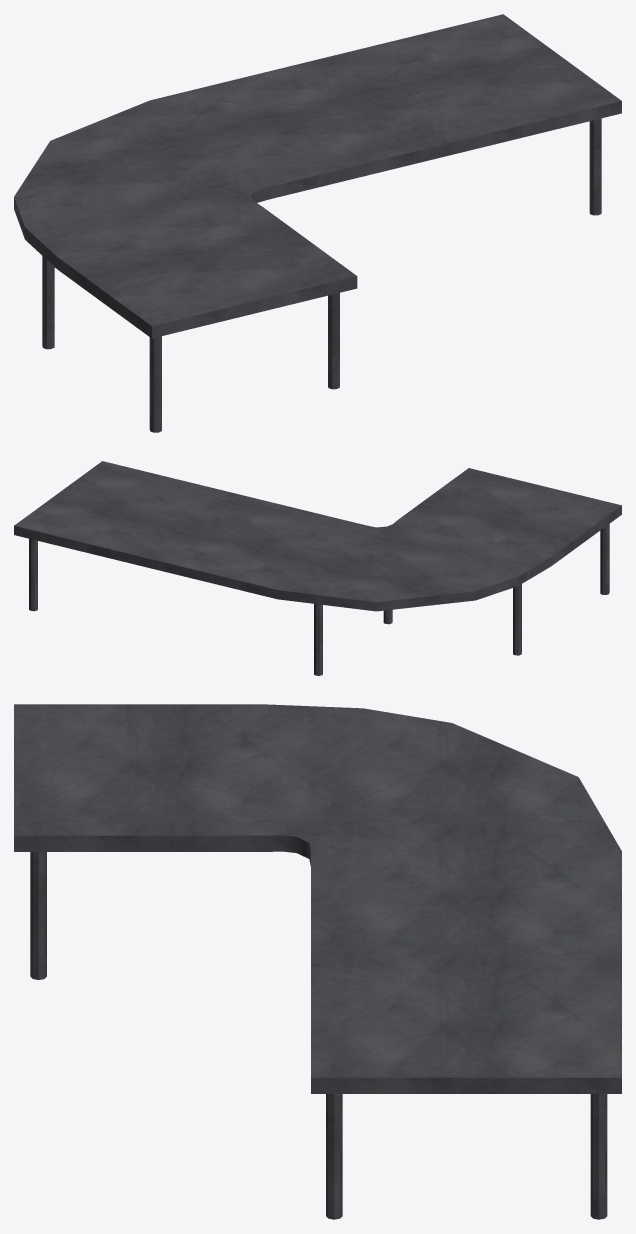
Rendered from furniture_work_table01.dae.
The picture shows the model from 3 angles, top to bottom: view 1: azimuth 30°, elevation 25°; view 2: azimuth 150°, elevation 25°; view 3: azimuth 270°, elevation 25°; orthographic projection. The views are drawn at different scales.
Visible parts, largest first — view 1: worktable; view 2: worktable; view 3: worktable.
Boxes of the visible parts, left/top/right/bottom form: worktable: left=14, top=14, right=621, bottom=432; worktable: left=14, top=461, right=621, bottom=675; worktable: left=14, top=704, right=621, bottom=1219.
Size of what is drawn, in the model's own units: 4.26 by 0.7969 by 2.93.
